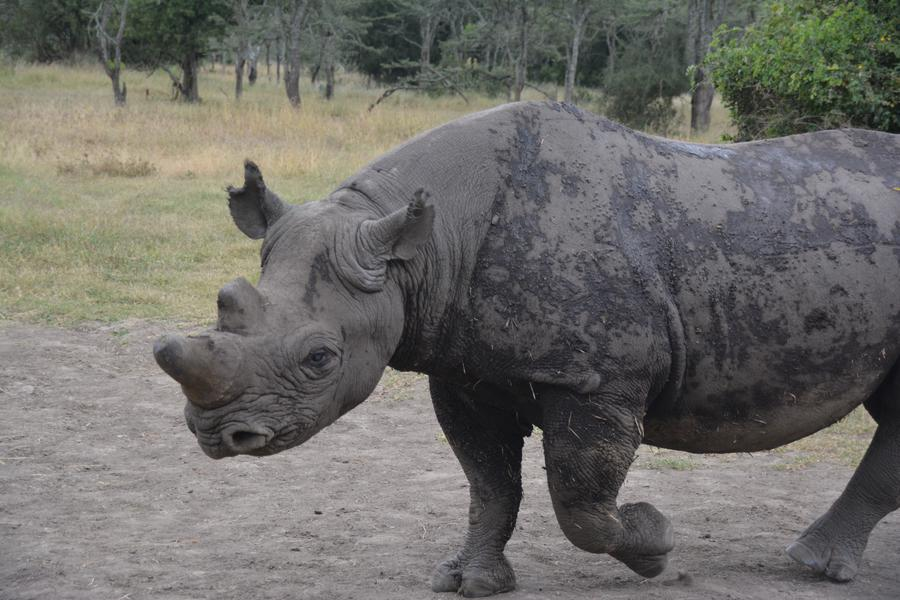rhino: (209, 94, 858, 557)
